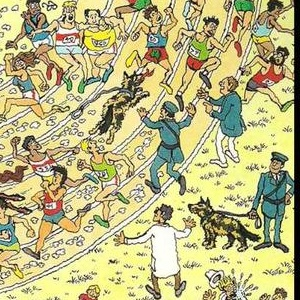Wenda: (192, 134, 234, 166)
